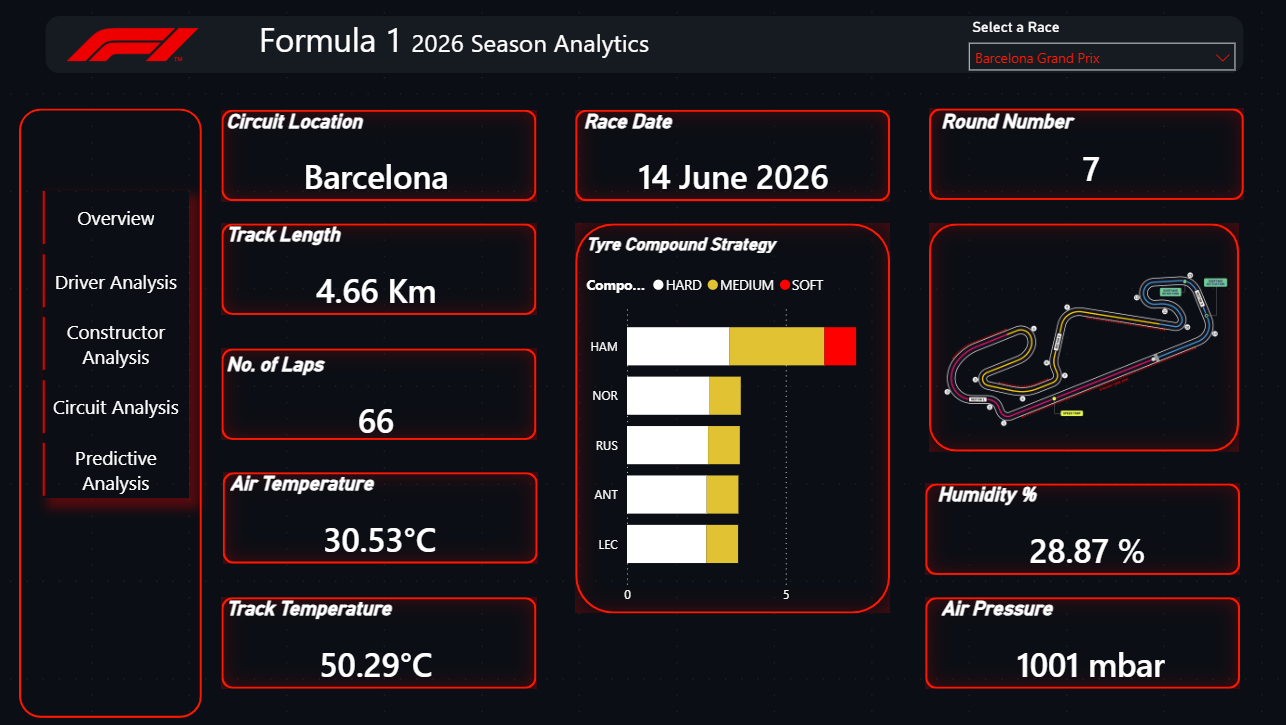

The page's visual inventory and layout, read from the dashboard file:
{"tool":"powerbi","page":{"name":"Circuit Analysis","canvas":[1280,720],"ordinal":3},"visuals":[{"type":"shape","box":[50.3,19.6,1180,56.4],"z":0},{"type":"image","box":[34.4,9.8,203.7,76.1],"z":1000},{"type":"shape","box":[24.5,110.4,180,600],"z":2000},{"type":"shape","box":[224,112,310,90],"z":3000},{"type":"shape","box":[920.3,110.4,310,90],"z":4000},{"type":"shape","box":[572.1,112,310,90],"z":5000},{"type":"shape","title":"Tyre Compound Strategy","box":[572.3,224,310,384],"z":6000},{"type":"cardVisual","title":"Circuit Location","fields":{"Data":["Min(season_schedule.Location)"]},"box":[224,112,304,96],"z":7000},{"type":"cardVisual","title":"Race Date","fields":{"Data":["Min(season_schedule.EventDate)"]},"box":[576,112,304,96],"z":8000},{"type":"cardVisual","title":"Round Number","fields":{"Data":["Avg(season_schedule.RoundNumber)"]},"box":[928,112,304,80],"z":9000},{"type":"pageNavigator","box":[48,192,144,302.8],"z":10000},{"type":"textbox","box":[256,16,432,64],"z":11000},{"type":"shape","box":[921.1,223.7,305.2,224.6],"z":12000},{"type":"image","box":[928.3,230.9,287.1,232.8],"z":13000},{"type":"slicer","title":"Select a Driver","fields":{"Values":["complete_race_results.EventName"]},"box":[954.6,17.2,272,64],"z":14000},{"type":"shape","box":[225.2,469.3,310,90],"z":15000},{"type":"cardVisual","title":"Air Temperature","fields":{"Data":["Avg(weather_data.AirTemp)"]},"box":[228.2,468.9,304,96],"z":16000},{"type":"barChart","title":"Tyre Compound Strategy","fields":{"Y":["Avg(lap_by_lap_data.Stint)"],"Category":["lap_by_lap_data.Driver"],"Series":["lap_by_lap_data.Compound"]},"box":[578.5,233.8,304,374],"z":17000},{"type":"shape","box":[224,224,310,90],"z":18000},{"type":"cardVisual","title":"Track Length","fields":{"Data":["Avg(season_schedule.track_length)"]},"box":[224,224,304,96],"z":19000},{"type":"shape","box":[224,346.7,310,90],"z":20000},{"type":"cardVisual","title":"No. of Laps","fields":{"Data":["Min(season_schedule.track_laps)"]},"box":[224,352,304,96],"z":21000},{"type":"shape","box":[224,592,310,90],"z":22000},{"type":"shape","box":[916.9,480,310,90],"z":23000},{"type":"shape","box":[916.9,592,310,90],"z":24000},{"type":"cardVisual","title":"Track Temperature","fields":{"Data":["Avg(weather_data.TrackTemp)"]},"box":[224,592,304,96],"z":25000},{"type":"cardVisual","title":"Humidity %","fields":{"Data":["Avg(weather_data.Humidity)"]},"box":[924.3,480,304,96],"z":26000},{"type":"cardVisual","title":"Air Pressure","fields":{"Data":["Avg(weather_data.Pressure)"]},"box":[928,592,304,96],"z":27000}]}

Visuals, with their boxes in screenshot pixels (x1, y1, x2, y2), scaled from the page's 1280x720 canvas onto the 1286x725 screenshot:
shape: bbox=[51, 20, 1236, 77]
image: bbox=[35, 10, 239, 86]
shape: bbox=[25, 111, 205, 715]
shape: bbox=[225, 113, 537, 203]
shape: bbox=[925, 111, 1236, 202]
shape: bbox=[575, 113, 886, 203]
"Tyre Compound Strategy" shape: bbox=[575, 226, 886, 612]
"Circuit Location" cardVisual: bbox=[225, 113, 530, 209]
"Race Date" cardVisual: bbox=[579, 113, 884, 209]
"Round Number" cardVisual: bbox=[932, 113, 1238, 193]
pageNavigator: bbox=[48, 193, 193, 498]
textbox: bbox=[257, 16, 691, 81]
shape: bbox=[925, 225, 1232, 451]
image: bbox=[933, 233, 1221, 467]
"Select a Driver" slicer: bbox=[959, 17, 1232, 82]
shape: bbox=[226, 473, 538, 563]
"Air Temperature" cardVisual: bbox=[229, 472, 535, 569]
"Tyre Compound Strategy" barChart: bbox=[581, 235, 887, 612]
shape: bbox=[225, 226, 537, 316]
"Track Length" cardVisual: bbox=[225, 226, 530, 322]
shape: bbox=[225, 349, 537, 440]
"No. of Laps" cardVisual: bbox=[225, 354, 530, 451]
shape: bbox=[225, 596, 537, 687]
shape: bbox=[921, 483, 1233, 574]
shape: bbox=[921, 596, 1233, 687]
"Track Temperature" cardVisual: bbox=[225, 596, 530, 693]
"Humidity %" cardVisual: bbox=[929, 483, 1234, 580]
"Air Pressure" cardVisual: bbox=[932, 596, 1238, 693]
